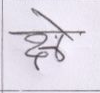e_matra: (31, 9, 66, 31)
